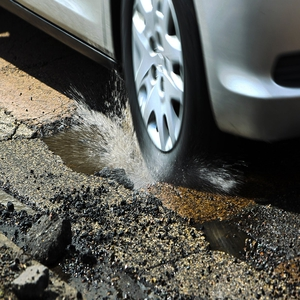pothole: (39, 109, 213, 188)
